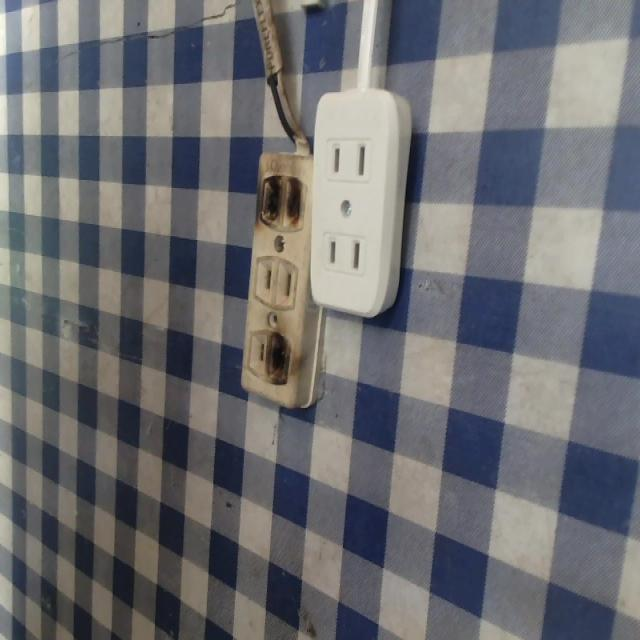-: (257, 168, 308, 236), (263, 329, 292, 387)
